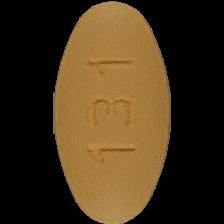62756-131: (0, 0, 224, 224)
